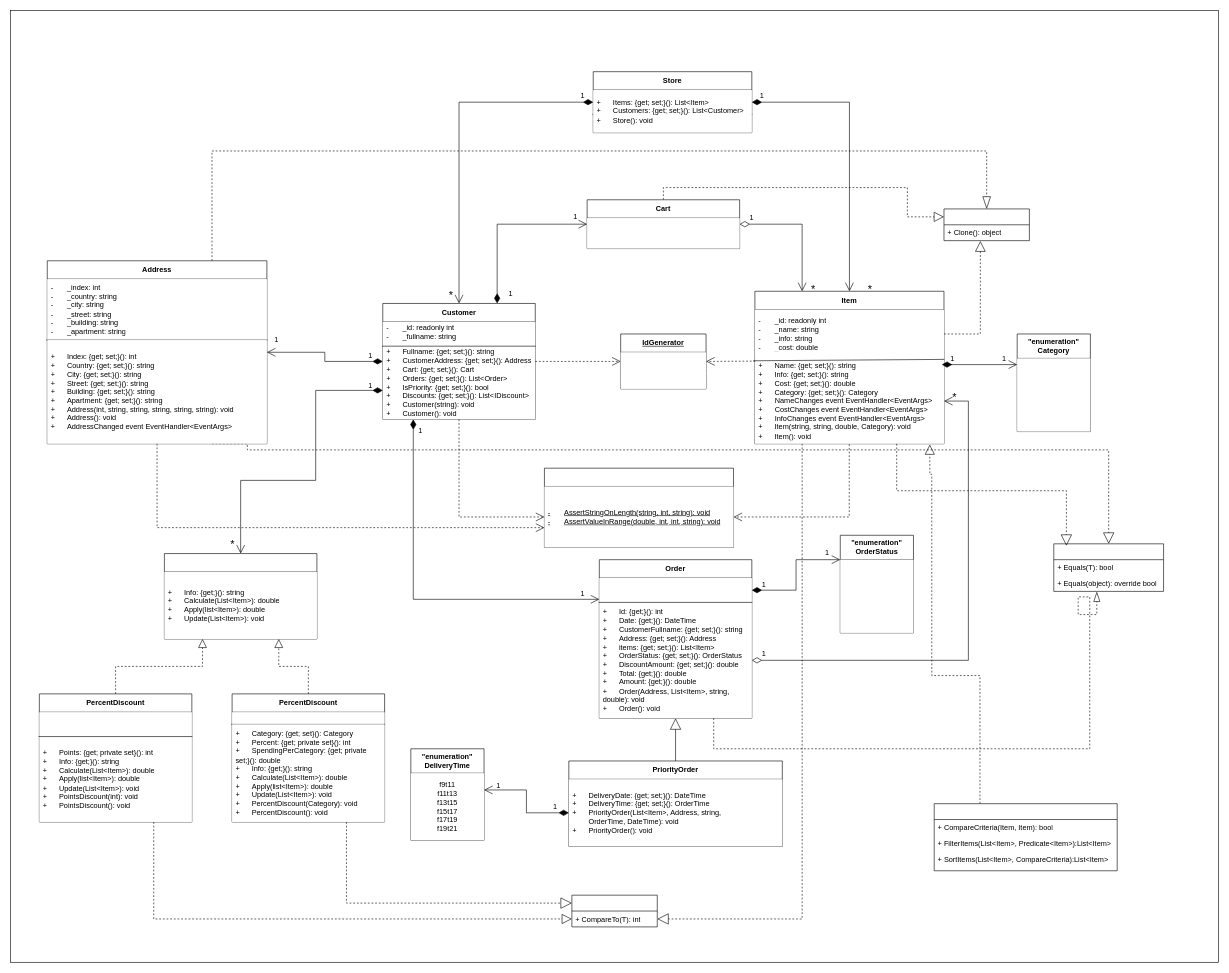
Some shapes in this 1229 by 973 pixel diagram are drawn without their labels. The shapes that lost their labels are listed below. From the top down, each one's box as (x1, y1, x2, y2) in pixels, then its label:
(587, 218, 739, 248): + Items: {get; set;}(): List<Item> + Amount: {get;}(): double + Cart(): void
(943, 208, 1029, 241): "Interface" IClonable
(620, 352, 706, 370): - _nextId: int
(620, 370, 706, 389): - GetNextId(): int
(1017, 358, 1090, 431): Medicine Clothing Products Technique Chancellery Books Groceries
(544, 468, 734, 547): ValueGenerator
(1053, 543, 1164, 591): "Interface"
(164, 553, 317, 639): "interface" IDiscount
(599, 578, 752, 602): - _id: int - _data: DateTime
(840, 559, 913, 633): New Processing Assembly Sent Delivered Returned Abandoned
(39, 712, 192, 736): - _points: int - _maxDiscountPercentage: const int
(232, 712, 384, 724): - _percent: int
(934, 803, 1117, 871): DataTools
(571, 895, 657, 927): "Interface" IComparable<T>
